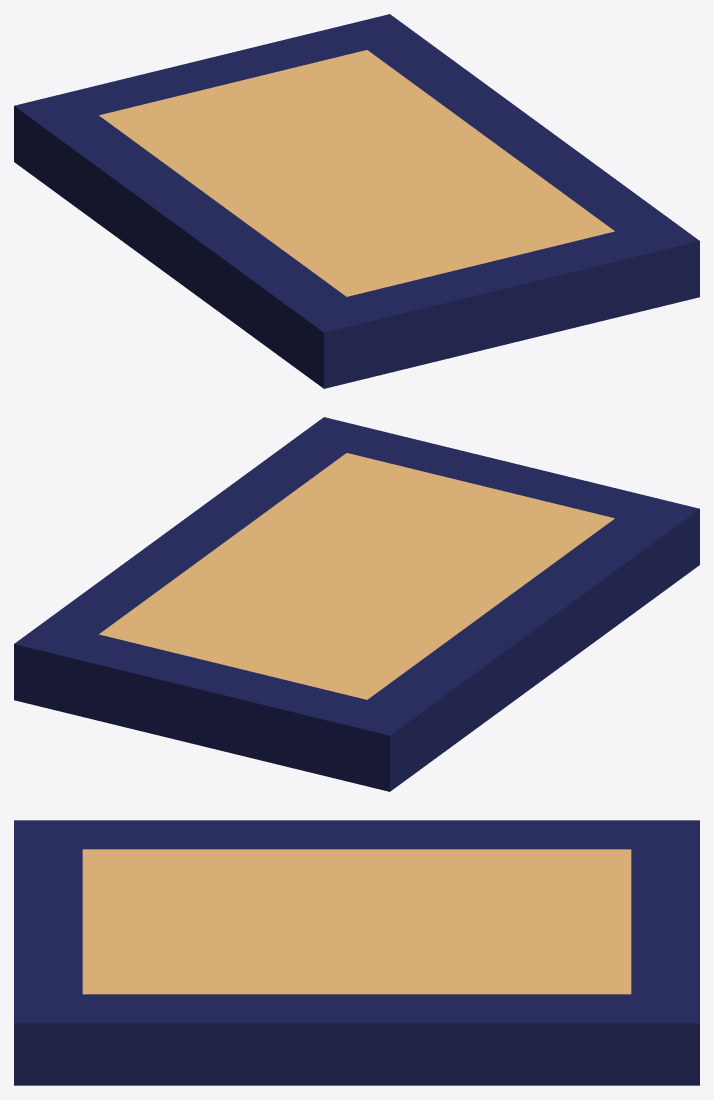
File: PISkniga.obj
The picture shows the model from 3 angles, top to bottom: view 1: azimuth 30°, elevation 25°; view 2: azimuth 150°, elevation 25°; view 3: azimuth 270°, elevation 25°; orthographic projection. The views are drawn at different scales.
Visible parts, largest first — view 1: PISkniga; view 2: PISkniga; view 3: PISkniga.
Part boxes in pixels (left/top/right/bottom): PISkniga: left=14, top=14, right=699, bottom=388; PISkniga: left=14, top=417, right=699, bottom=791; PISkniga: left=14, top=820, right=699, bottom=1085.
Bounding box in the file's own units: 0.7 × 0.1 × 1.
Materials: 1 (1 with a texture image).
